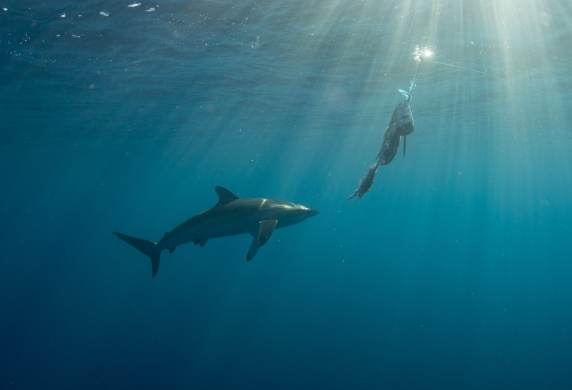Sedoso: (109, 180, 328, 283)
